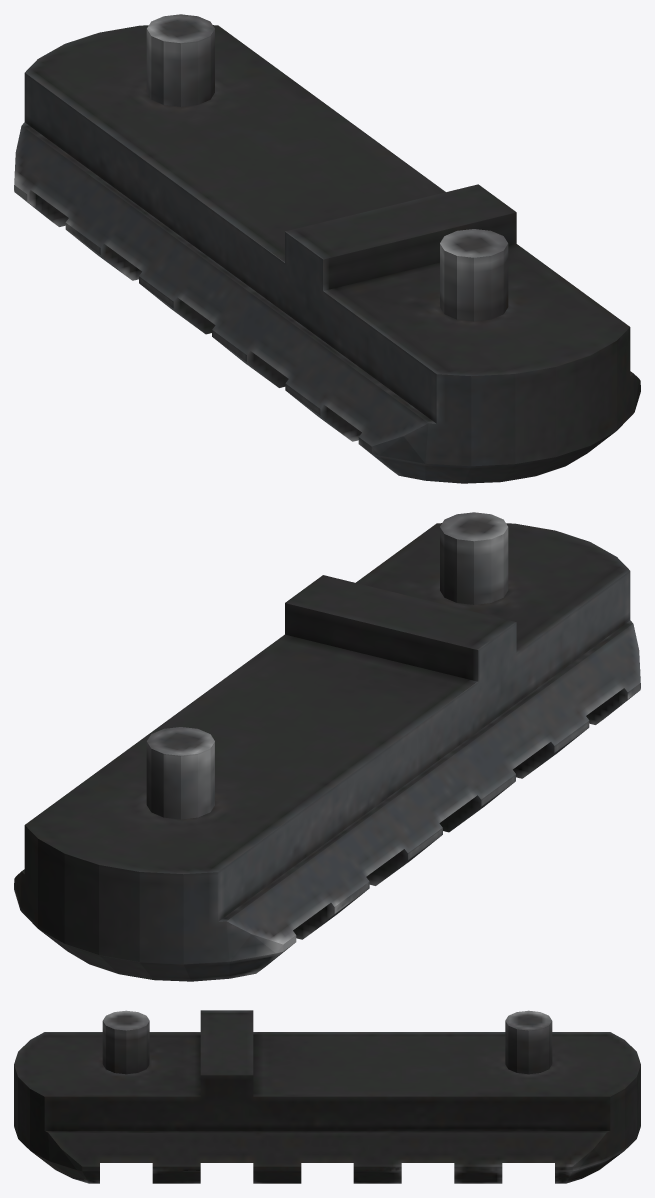
3 renders of one model, top to bottom at view 1: azimuth 30°, elevation 25°; view 2: azimuth 150°, elevation 25°; view 3: azimuth 270°, elevation 25°, orthographic. The views are drawn at different scales.
Visible parts, largest first — view 1: TW_58a56f8d86f774651579314c_PZ_Import; view 2: TW_58a56f8d86f774651579314c_PZ_Import; view 3: TW_58a56f8d86f774651579314c_PZ_Import.
Boxes of the visible parts, x1,y1,x2,y2 form: TW_58a56f8d86f774651579314c_PZ_Import: (14,14,640,483); TW_58a56f8d86f774651579314c_PZ_Import: (14,512,640,981); TW_58a56f8d86f774651579314c_PZ_Import: (14,1010,640,1183).
Size of the model in its own units: 0.0123 by 0.036 by 0.00816.
Materials: 1 (1 with a texture image).
